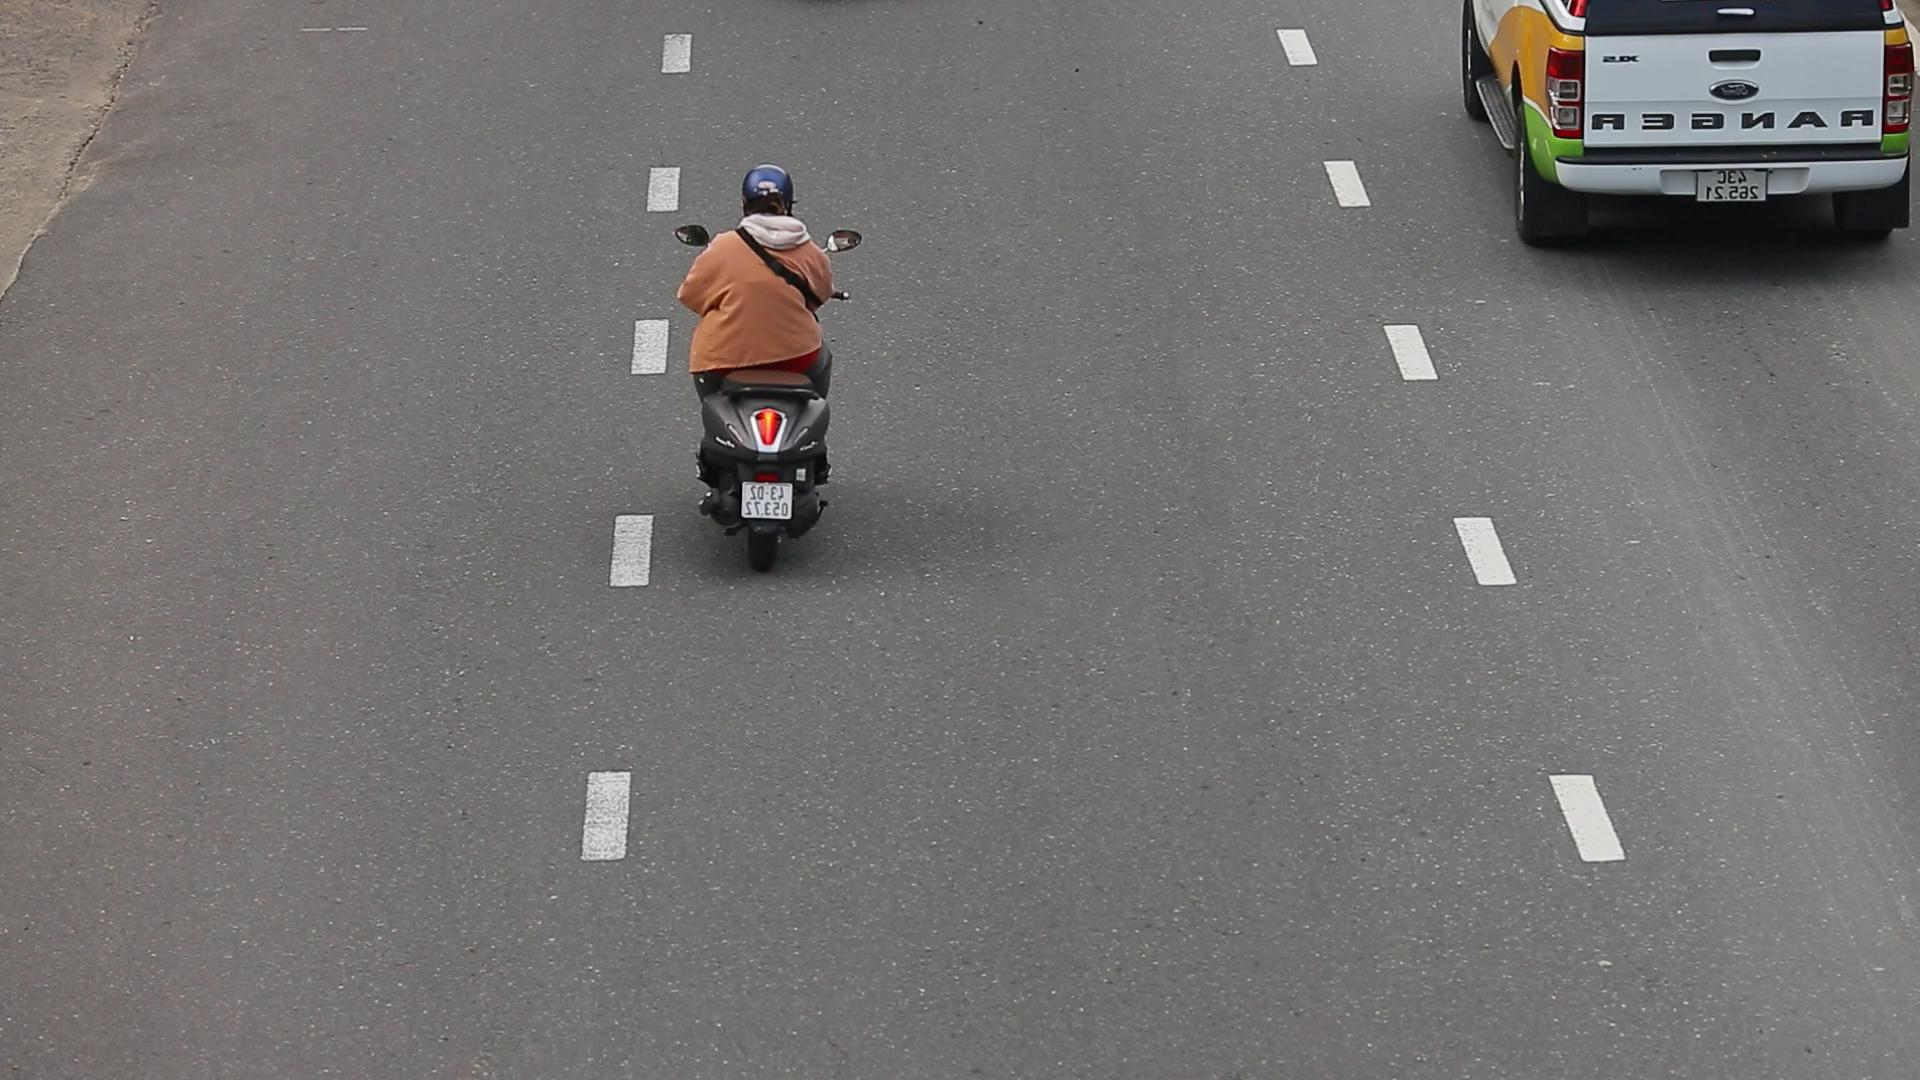motobike: (638, 154, 873, 585)
